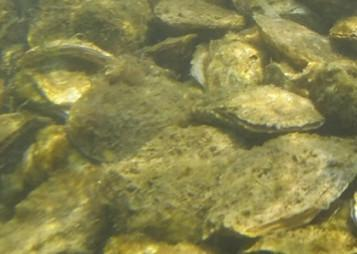3: (238, 26, 259, 42), (348, 191, 357, 224)
Oyster-Closed: (266, 61, 357, 136), (196, 84, 325, 134), (131, 34, 198, 76), (23, 41, 115, 66), (0, 112, 38, 159), (330, 14, 357, 46)
Oyster-Open: (96, 124, 251, 238), (207, 131, 357, 236), (66, 74, 205, 164), (0, 126, 106, 231), (0, 164, 112, 254), (236, 195, 357, 254), (30, 0, 151, 54), (253, 14, 357, 63), (190, 33, 267, 97), (232, 0, 326, 33), (155, 0, 245, 33), (33, 58, 91, 104), (105, 233, 223, 254), (0, 0, 22, 51)
